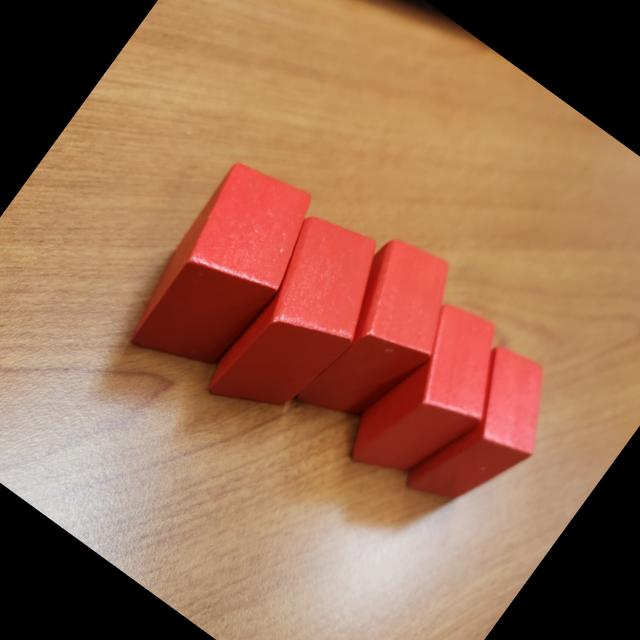red: (111, 146, 336, 396), (187, 198, 409, 445), (277, 223, 482, 450), (333, 289, 533, 509), (396, 334, 578, 535)
